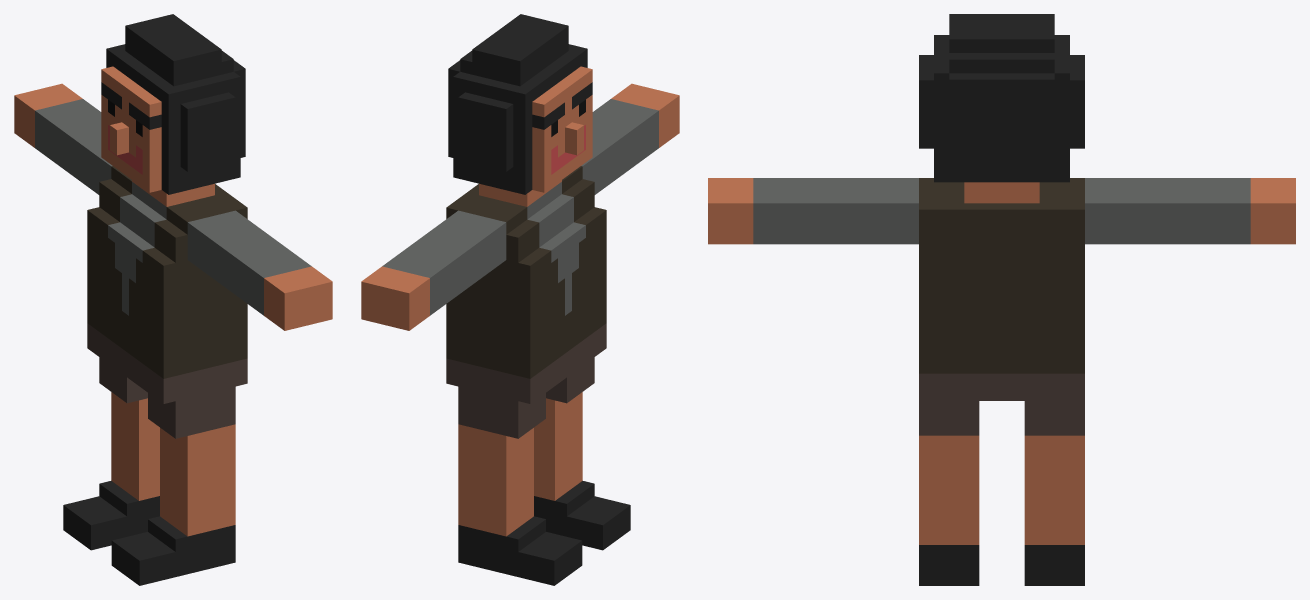
Rendered from jose_brown.obj.
3 views of the same model, side by side, from view 1: azimuth 30°, elevation 25°; view 2: azimuth 150°, elevation 25°; view 3: azimuth 270°, elevation 25° (orthographic). The views are drawn at different scales.
Bounding box in the file's own units: 1 × 4 × 3.9.
Materials: 1 (1 with a texture image).
